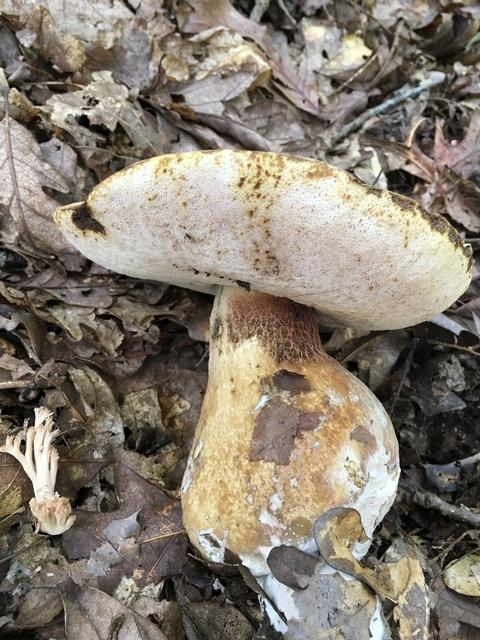poisonous_mushroom: (51, 147, 474, 637)
